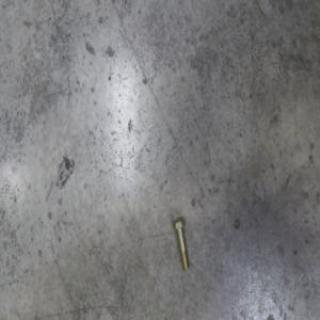Bolttrack_idkeyframe: (170, 215, 188, 271)
